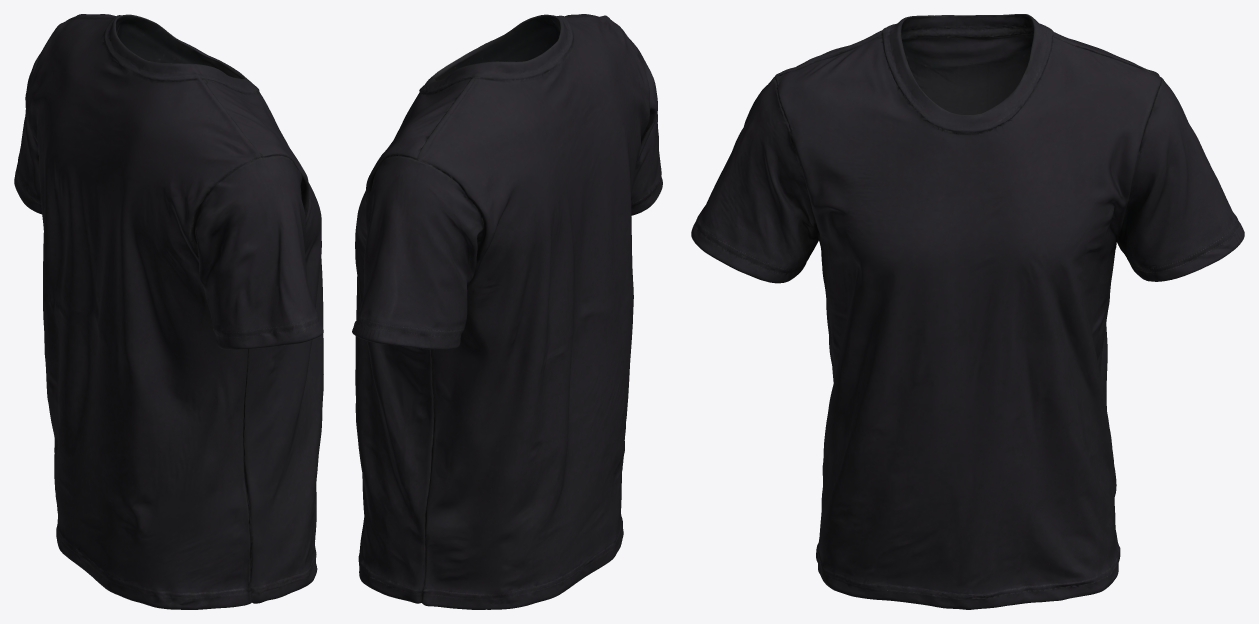
File: CAMISETA.glb
The picture shows the model from 3 angles, left to right: view 1: azimuth 30°, elevation 25°; view 2: azimuth 150°, elevation 25°; view 3: azimuth 270°, elevation 25°; orthographic projection.
Parts seen in each view (by area): view 1: tripo_node_8ed1ec0e-424d-45a1-bc1c-11a9fd43d207; view 2: tripo_node_8ed1ec0e-424d-45a1-bc1c-11a9fd43d207; view 3: tripo_node_8ed1ec0e-424d-45a1-bc1c-11a9fd43d207.
Part boxes in pixels (left/top/right/bottom): tripo_node_8ed1ec0e-424d-45a1-bc1c-11a9fd43d207: left=14, top=14, right=323, bottom=609; tripo_node_8ed1ec0e-424d-45a1-bc1c-11a9fd43d207: left=352, top=14, right=662, bottom=609; tripo_node_8ed1ec0e-424d-45a1-bc1c-11a9fd43d207: left=691, top=14, right=1244, bottom=609.
Bounding box in the file's own units: 0.4001 × 0.9787 × 0.9276.
1 material, 1 textured.
